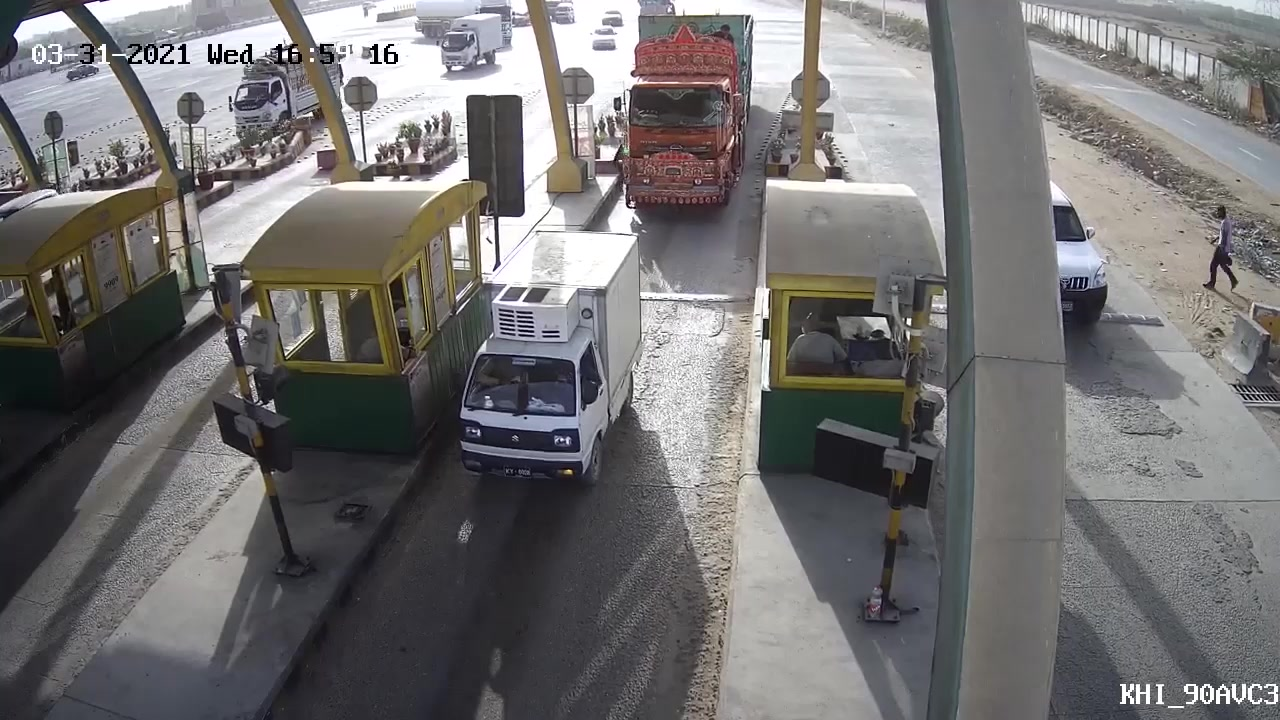F1: (446, 220, 650, 487)
F5: (605, 11, 759, 213)
